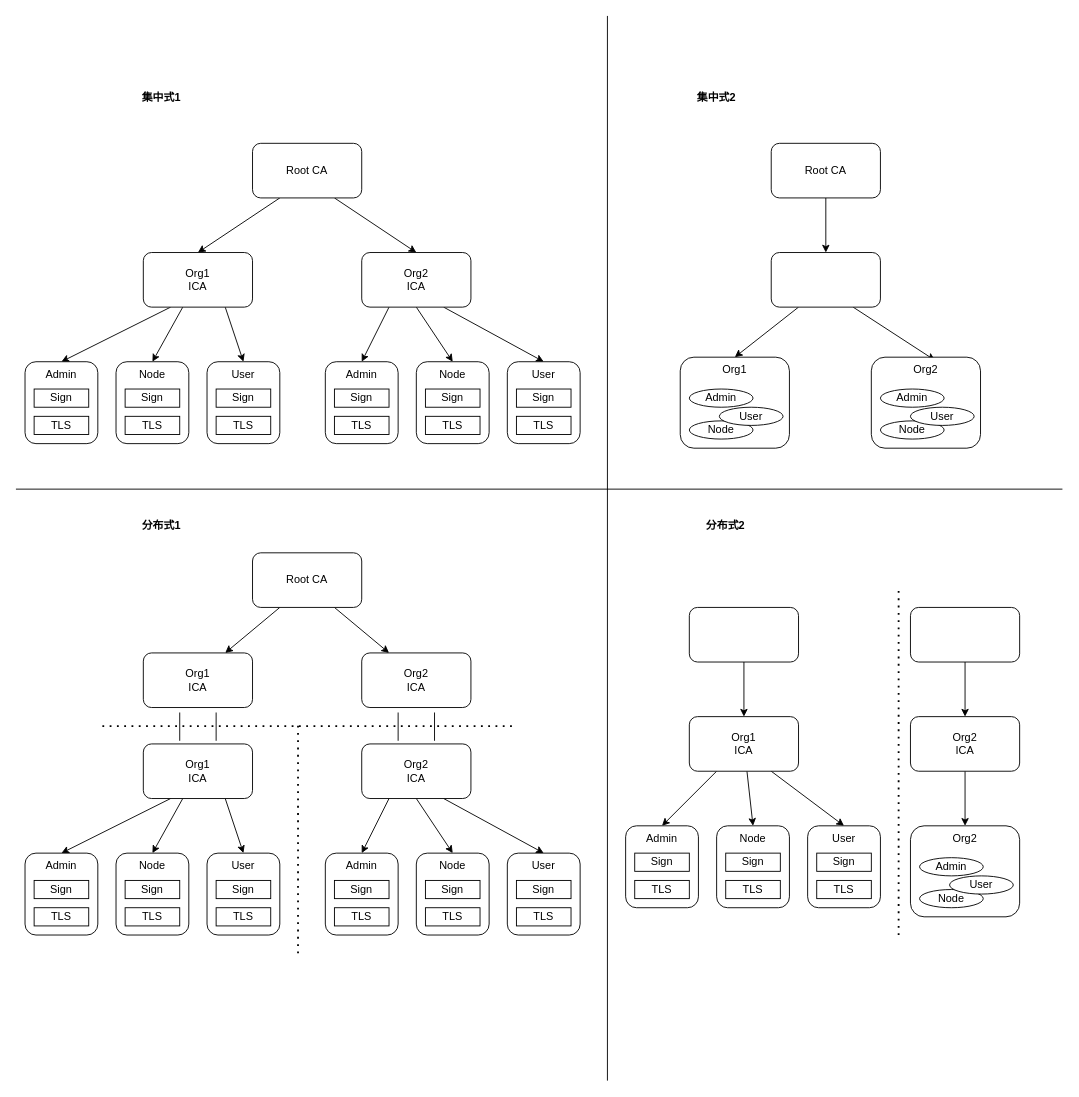
The diagram is 1079 pixels wide and 1097 high, and some of its shapes have lost their labels. The box of each missing label's shape, as (x1, y1, x2, y2) in pixels:
ICA: (770, 252, 880, 307)
Org1 Root CA: (688, 607, 799, 662)
Org2 Root CA: (910, 607, 1020, 662)
